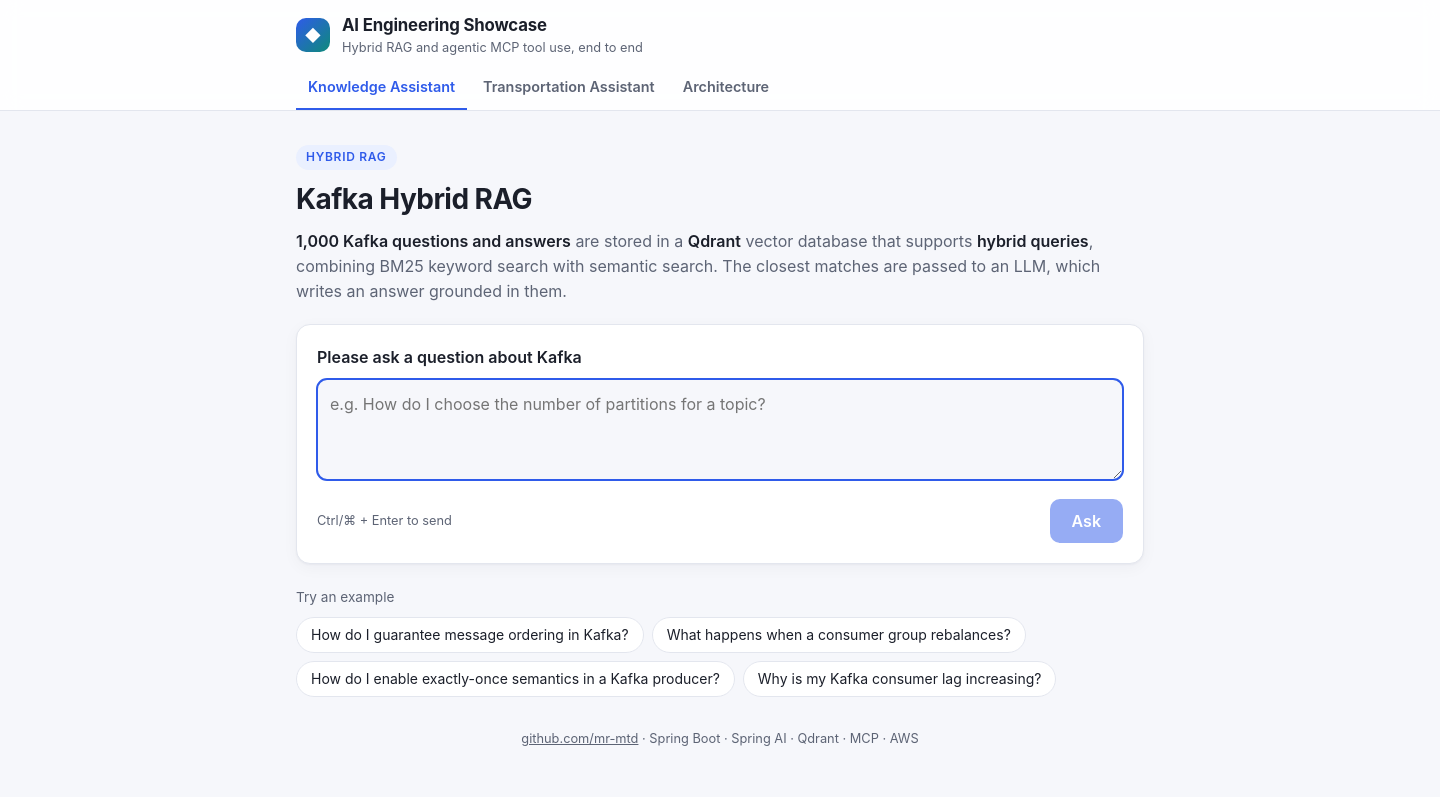
Test case: App › switches tabs on click and records the tab in the URL hash
Click the tab "Transportation Assistant": (569, 89) left=471, top=68, right=667, bottom=110
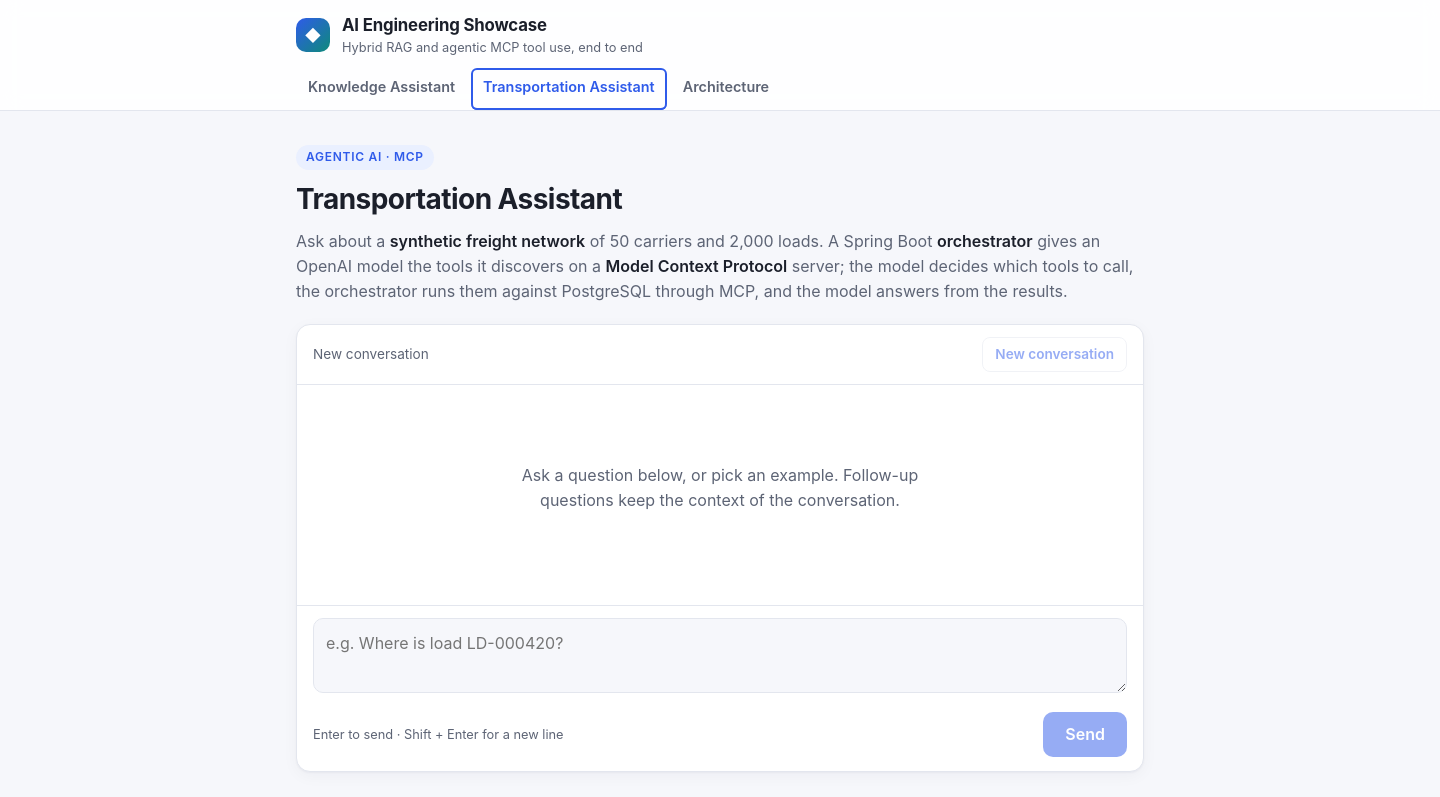
Expected: the heading "Transportation Assistant" is shown, left=296, top=182, right=622, bottom=216
Expected: the heading "Kafka Hybrid RAG" is gone
